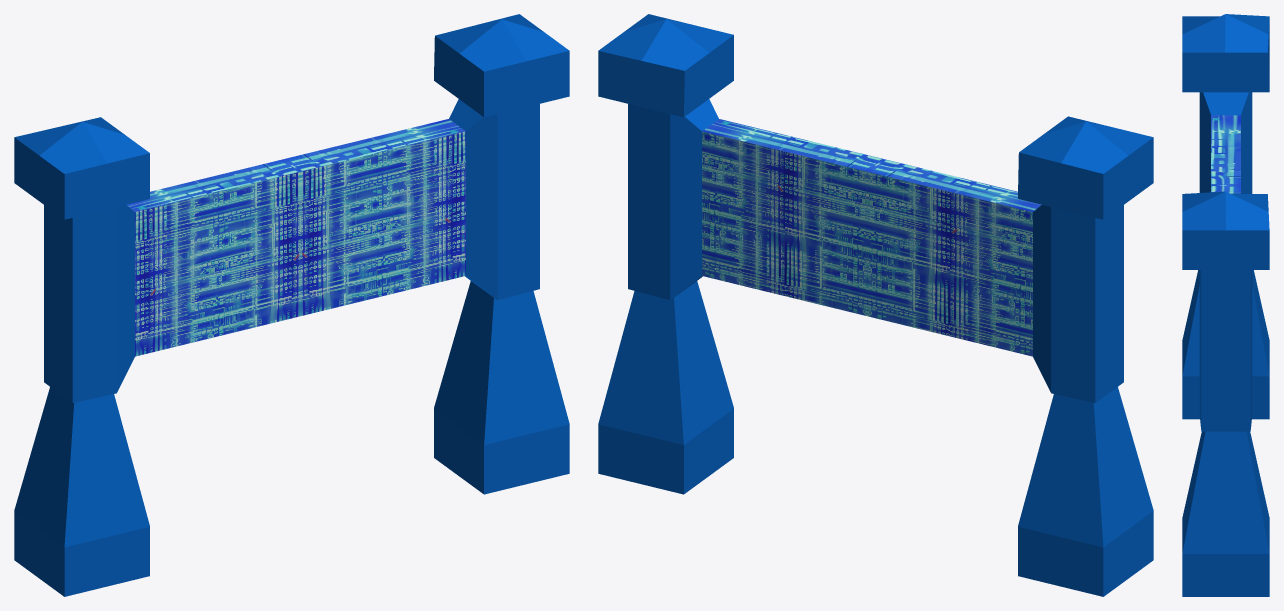
Rendered from slideonly.fbx.
The picture shows the model from 3 angles, left to right: view 1: azimuth 30°, elevation 25°; view 2: azimuth 150°, elevation 25°; view 3: azimuth 270°, elevation 25°; orthographic projection. The views are drawn at different scales.
Parts seen in each view (by area): view 1: Cube.001; view 2: Cube.001; view 3: Cube.001.
Part boxes in pixels (box(x1,y1,x2,y2)): Cube.001: box(14, 14, 569, 596); Cube.001: box(598, 14, 1153, 596); Cube.001: box(1182, 14, 1269, 596).
Bounding box in the file's own units: 7.24 × 1.25 × 6.11.
Materials: 2 (1 with a texture image).
